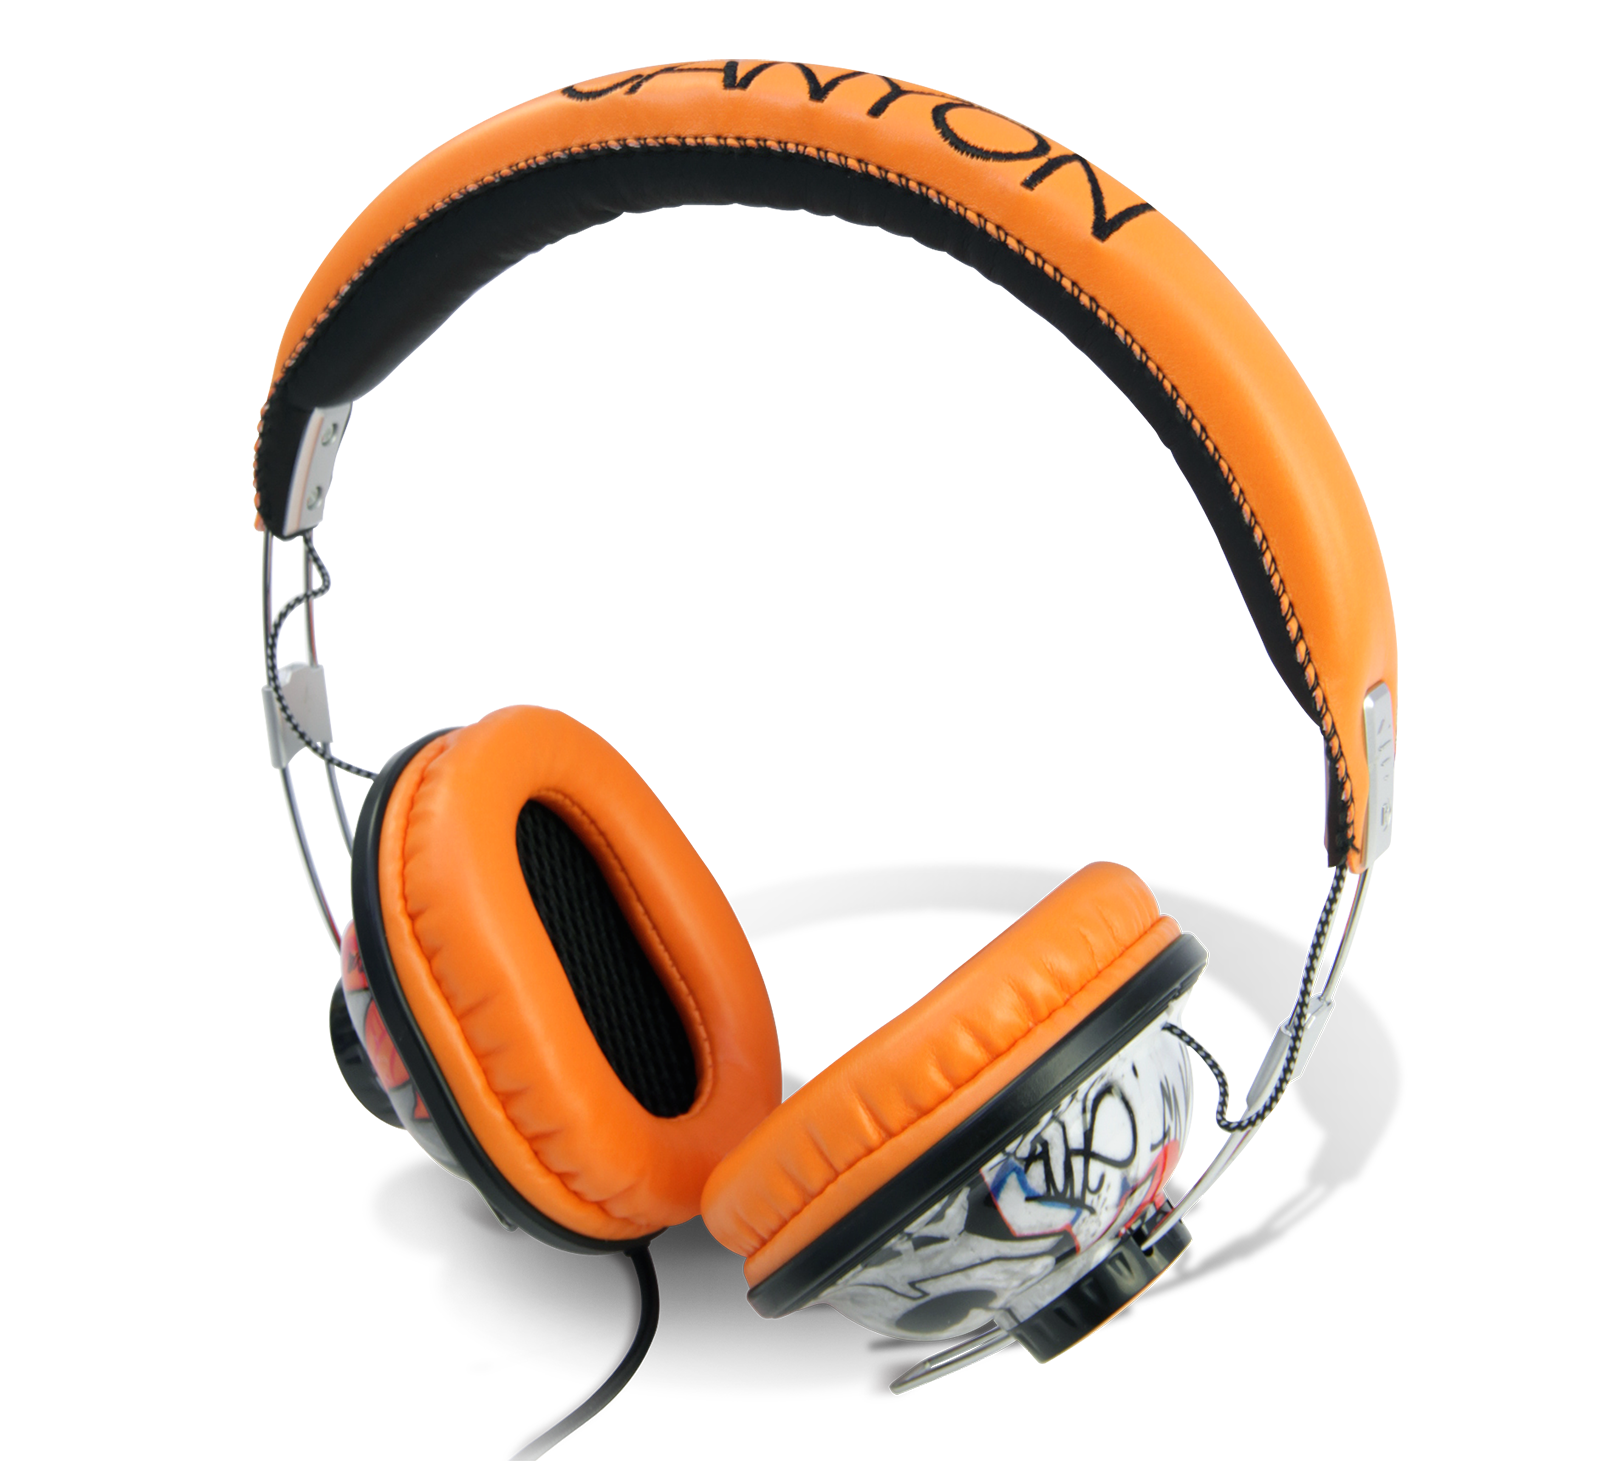headphone: (229, 7, 1377, 1327)
